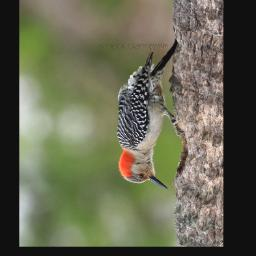Woodpecker: (110, 30, 182, 194)
